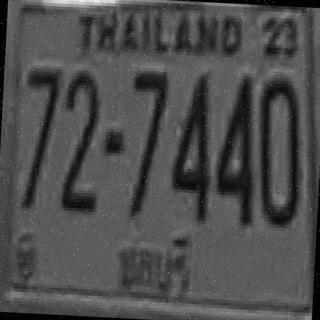N00: (254, 72, 302, 224)
N02: (59, 67, 100, 209)
N04: (212, 72, 258, 223), (168, 71, 213, 219)
N07: (126, 67, 168, 215), (20, 65, 61, 207)
P13: (109, 225, 200, 298)
